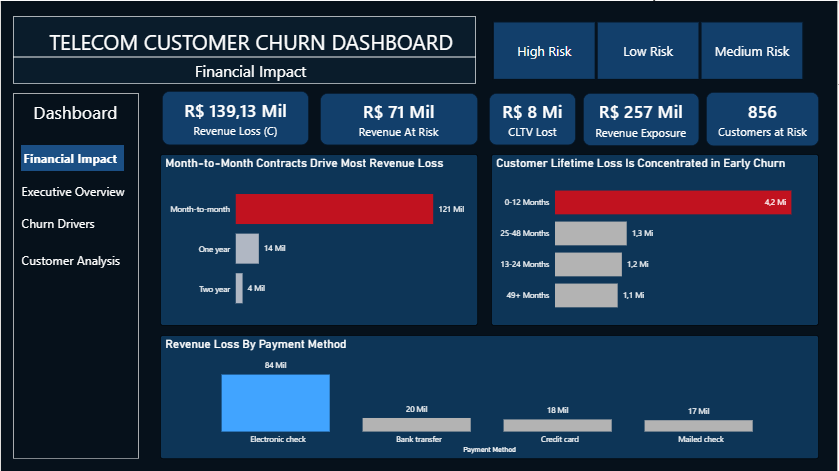

This screenshot's page, from the dashboard's own definition file:
{"tool":"powerbi","page":{"name":"Financial Impact","canvas":[1280,720],"ordinal":1},"visuals":[{"type":"shape","title":"Telecom Customer Churn Dashboard","box":[18.4,23,708.9,104.1],"z":0},{"type":"shape","title":"Customer Retention Analytics","box":[18.4,140.9,192.9,560.4],"z":1000},{"type":"shape","box":[18.4,70.4,708.9,30.6],"z":2000},{"type":"actionButton","box":[27.6,370.5,160.8,50.5],"z":3000},{"type":"actionButton","box":[27.6,320.5,122.5,39.8],"z":4000},{"type":"actionButton","box":[30.6,220.5,157.7,39.8],"z":5000},{"type":"actionButton","box":[27.6,270.5,171.5,39.8],"z":6000},{"type":"textbox","box":[29.1,147,170,49],"z":7000},{"type":"textbox","box":[52.1,35.2,661.4,68.9],"z":8000},{"type":"textbox","box":[269.5,85.7,225.1,55.1],"z":9000},{"type":"clusteredBarChart","title":"Month-to-Month Contracts Drive Most Revenue Loss","fields":{"Y":["Medidas.Revenue Loss"],"Category":["Telco_customer_churn.Contract"]},"box":[243.4,234.3,486.9,263.3],"z":10000},{"type":"clusteredBarChart","title":"Customer Lifetime Loss Is Concentrated in Early Churn","fields":{"Category":["Telco_customer_churn.Tenure Category"],"Y":["Medidas.CLTV Perdido"]},"box":[750.2,234.3,502.2,263.3],"z":11000},{"type":"clusteredColumnChart","title":"Revenue Loss By Payment Method","fields":{"Y":["Medidas.Revenue Loss"],"Category":["Telco_customer_churn.Payment Method"]},"box":[243.4,511.4,1009,189.9],"z":12000},{"type":"cardVisual","fields":{"Data":["Medidas.Month-to-Month Revenue"]},"box":[891.1,140.9,177.6,81.1],"z":13000},{"type":"cardVisual","fields":{"Data":["Medidas.High-Risk Customers"]},"box":[1079.4,139.3,173,82.7],"z":14000},{"type":"cardVisual","fields":{"Data":["Medidas.Revenue Loss"]},"box":[246.5,137.8,225.1,82.7],"z":15000},{"type":"cardVisual","fields":{"Data":["Medidas.CLTV Perdido"]},"box":[747.2,140.9,133.2,79.6],"z":16000},{"type":"cardVisual","fields":{"Data":["Medidas.Revenue At Risk"]},"box":[488.8,140.9,241.9,79.6],"z":17000},{"type":"slicer","fields":{"Values":["Telco_customer_churn.Churn Risk"]},"box":[727.3,24.5,525.2,102.6],"z":18000}]}

Visuals, with their boxes in screenshot pixels (x1, y1, x2, y2), scaled from the page's 1280x720 canvas onto the 839x471 screenshot:
"Telecom Customer Churn Dashboard" shape: [12, 15, 477, 83]
"Customer Retention Analytics" shape: [12, 92, 139, 459]
shape: [12, 46, 477, 66]
actionButton: [18, 242, 123, 275]
actionButton: [18, 210, 98, 236]
actionButton: [20, 144, 123, 170]
actionButton: [18, 177, 131, 203]
textbox: [19, 96, 131, 128]
textbox: [34, 23, 468, 68]
textbox: [177, 56, 324, 92]
"Month-to-Month Contracts Drive Most Revenue Loss" clusteredBarChart: [160, 153, 479, 326]
"Customer Lifetime Loss Is Concentrated in Early Churn" clusteredBarChart: [492, 153, 821, 326]
"Revenue Loss By Payment Method" clusteredColumnChart: [160, 335, 821, 459]
cardVisual - Medidas.Month-to-Month Revenue: [584, 92, 700, 145]
cardVisual - Medidas.High-Risk Customers: [708, 91, 821, 145]
cardVisual - Medidas.Revenue Loss: [162, 90, 309, 144]
cardVisual - Medidas.CLTV Perdido: [490, 92, 577, 144]
cardVisual - Medidas.Revenue At Risk: [320, 92, 479, 144]
slicer - Telco_customer_churn.Churn Risk: [477, 16, 821, 83]
